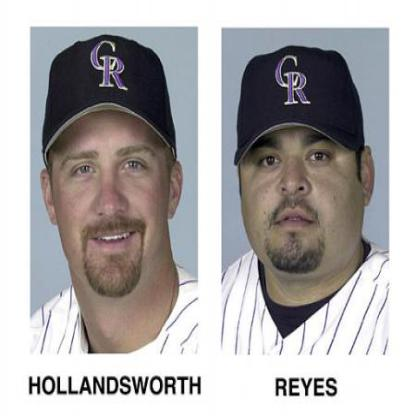face: (50, 40, 173, 301), (234, 50, 365, 286)
